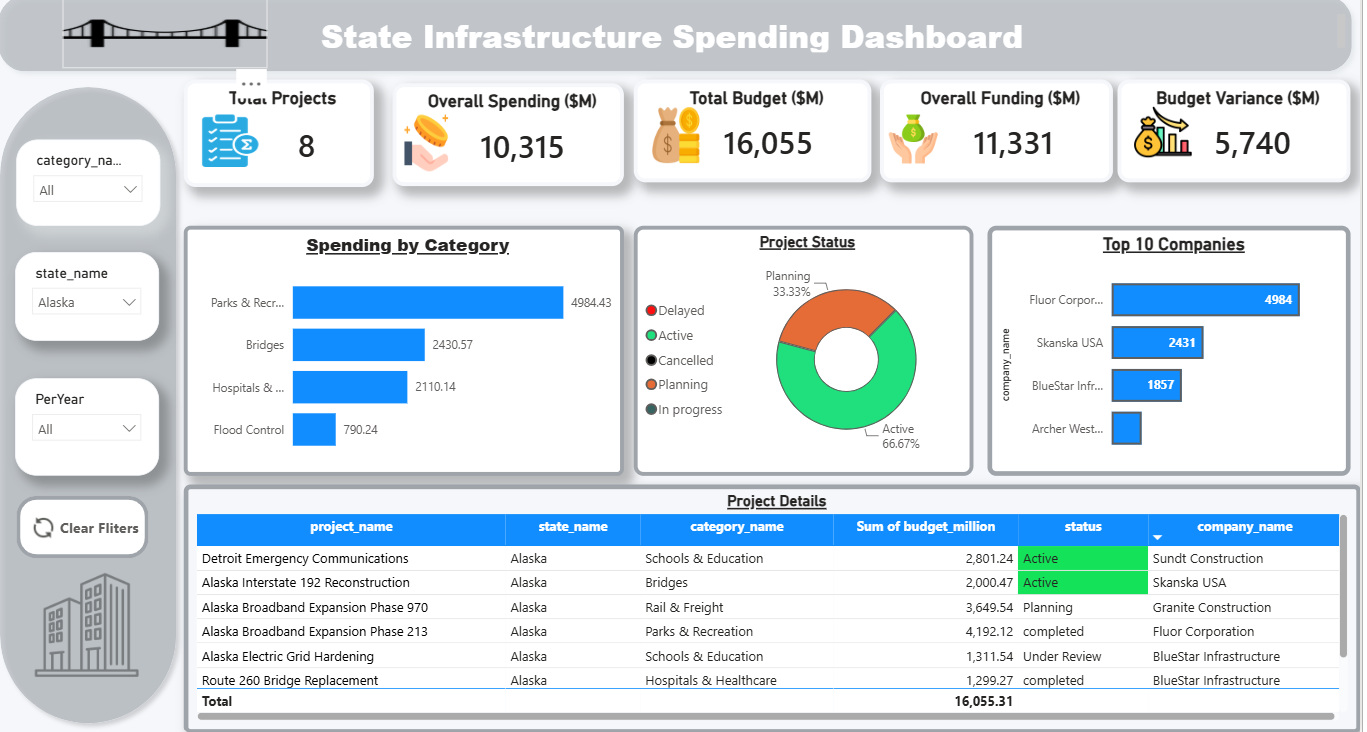

The page's visual inventory and layout, read from the dashboard file:
{"tool":"powerbi","page":{"name":"Page 1","canvas":[1407,766],"ordinal":0},"visuals":[{"type":"shape","box":[1.3,94.2,198.8,671.4],"z":0},{"type":"barChart","title":"Spending by Category","fields":{"Y":["Sum(projects_stagging.actual_cost_milion)"],"Category":["categories_stagging.category_name"]},"box":[198.9,245.2,451.8,256.7],"z":1000},{"type":"slicer","fields":{"Values":["categories_stagging.category_name"]},"box":[27,156.6,147.6,88.6],"z":2000},{"type":"tableEx","title":"Project Details","fields":{"Values":["projects_stagging.project_name","states_stagging.state_name","categories_stagging.category_name","Sum(projects_stagging.budget_million)","projects_stagging.status","contractors_stagging.company_name"]},"box":[198.8,511.3,1208.4,255.6],"z":3000},{"type":"shape","box":[0,0,1407.3,95.5],"z":4000},{"type":"slicer","fields":{"Values":["states_stagging.state_name"]},"box":[25.7,272.1,147.6,91.1],"z":5000},{"type":"slicer","fields":{"Values":["projects_stagging.PerYear"]},"box":[25.7,401.7,147.6,100.1],"z":6000},{"type":"donutChart","title":"Project Status","fields":{"Y":["projects_stagging.delayed_Status","projects_stagging.active_Status","projects_stagging.cancelled_Status","projects_stagging.Planning_Status","projects_stagging.in_progress_Status"]},"box":[661,245.3,348.6,256.9],"z":7000},{"type":"clusteredBarChart","title":"Top 10 Companies","fields":{"Category":["contractors_stagging.company_name"],"Y":["Sum(projects_stagging.actual_cost_milion)"]},"box":[1023.8,245.3,373.1,256.9],"z":8000},{"type":"actionButton","box":[27,522.4,136.1,64.2],"z":9000},{"type":"cardVisual","title":"Overall Spending ($M)","fields":{"Data":["Sum(projects_stagging.actual_cost_milion)"]},"box":[413.1,99.4,237.6,105.9],"z":10000},{"type":"cardVisual","title":"Total Budget ($M)","fields":{"Data":["Sum(projects_stagging.budget_million)"]},"box":[661,95.5,244,105.9],"z":11000},{"type":"cardVisual","title":"Overall  Funding ($M)","fields":{"Data":["Sum(funding_sources_stagging.amount_million)"]},"box":[914.1,95.5,238.8,105.9],"z":12000},{"type":"cardVisual","title":"Budget Variance ($M)","fields":{"Data":["projects_stagging.Cost_Over_run"]},"box":[1158.1,95.5,238.8,105.9],"z":13000},{"type":"image","box":[679.1,118.8,50.4,65.8],"z":14000},{"type":"image","box":[923.1,117.5,50.4,76.2],"z":15000},{"type":"image","box":[1173.6,118.8,62,59.4],"z":16000},{"type":"image","box":[424.8,130.4,46.5,58.1],"z":17000},{"type":"cardVisual","title":"Total Projects","fields":{"Data":["CountNonNull(projects_stagging.project_id)"]},"box":[198.9,95,195.1,110.4],"z":18000},{"type":"image","box":[207.9,126.5,77.5,62],"z":19000},{"type":"image","box":[32.3,600.3,134.3,108.4],"z":20000},{"type":"image","box":[74.9,11.6,210.4,72.3],"z":20500},{"type":"textbox","box":[11.6,23.2,1385.3,49.1],"z":21000}]}

Visuals, with their boxes in screenshot pixels (x1, y1, x2, y2), scaled from the page's 1407x766 canvas onto the 1367x732 screenshot:
shape: <box>1,90,194,731</box>
"Spending by Category" barChart: <box>193,234,632,480</box>
slicer - categories_stagging.category_name: <box>26,150,170,234</box>
"Project Details" tableEx: <box>193,489,1366,731</box>
shape: <box>0,0,1366,91</box>
slicer - states_stagging.state_name: <box>25,260,168,347</box>
slicer - projects_stagging.PerYear: <box>25,384,168,480</box>
"Project Status" donutChart: <box>642,234,981,480</box>
"Top 10 Companies" clusteredBarChart: <box>995,234,1357,480</box>
actionButton: <box>26,499,158,561</box>
"Overall Spending ($M)" cardVisual: <box>401,95,632,196</box>
"Total Budget ($M)" cardVisual: <box>642,91,879,192</box>
"Overall  Funding ($M)" cardVisual: <box>888,91,1120,192</box>
"Budget Variance ($M)" cardVisual: <box>1125,91,1357,192</box>
image: <box>660,114,709,176</box>
image: <box>897,112,946,185</box>
image: <box>1140,114,1200,170</box>
image: <box>413,125,458,180</box>
"Total Projects" cardVisual: <box>193,91,383,196</box>
image: <box>202,121,277,180</box>
image: <box>31,574,162,677</box>
image: <box>73,11,277,80</box>
textbox: <box>11,22,1357,69</box>
